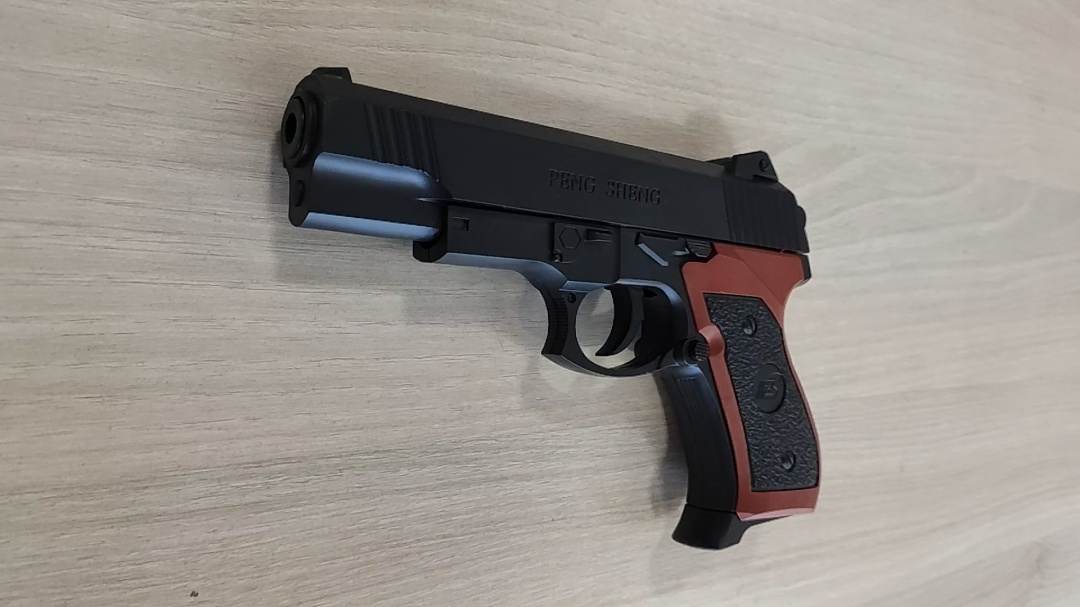gunw: (277, 62, 821, 557)
